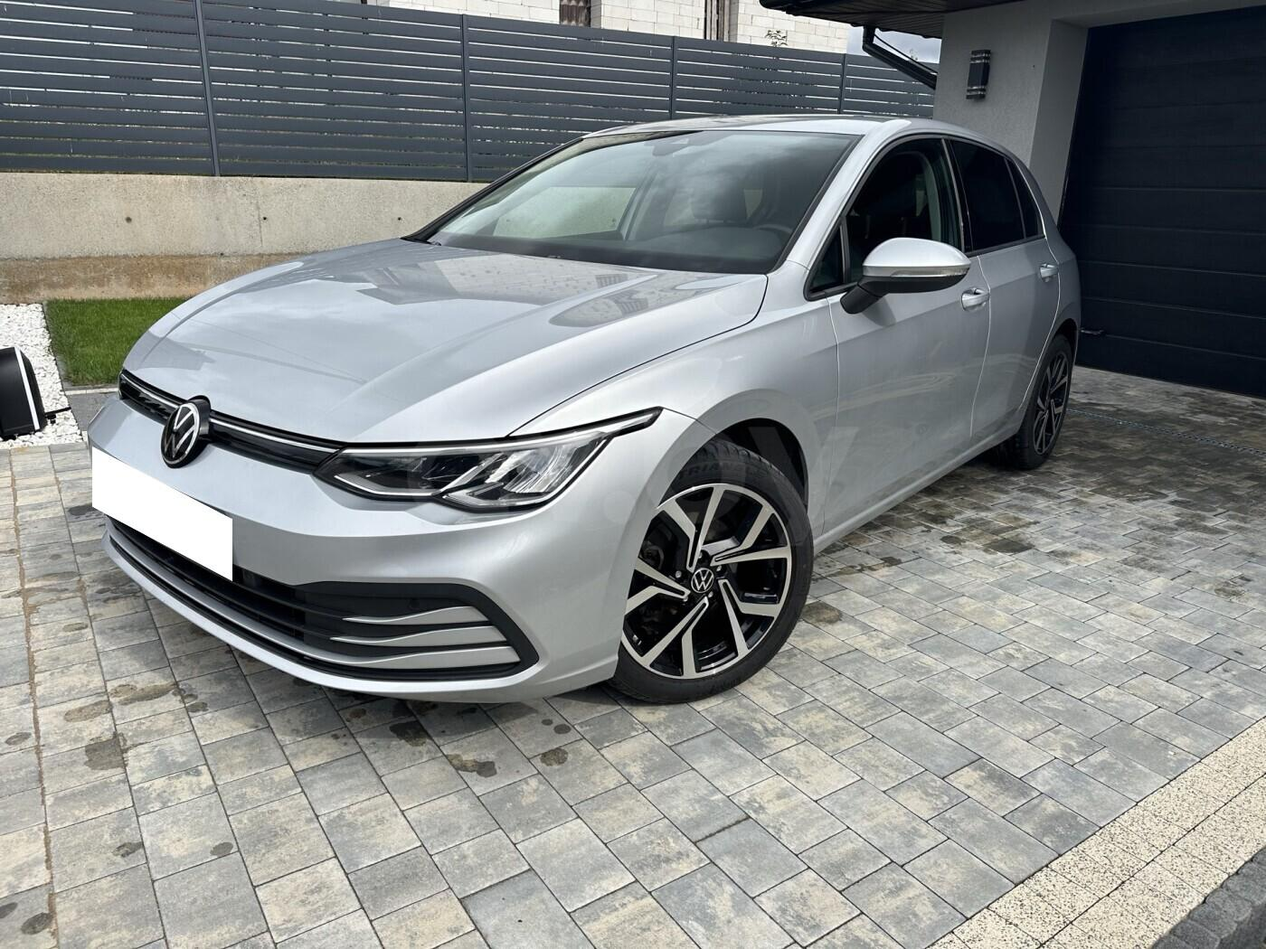Golf_2019: (78, 111, 1090, 717)
